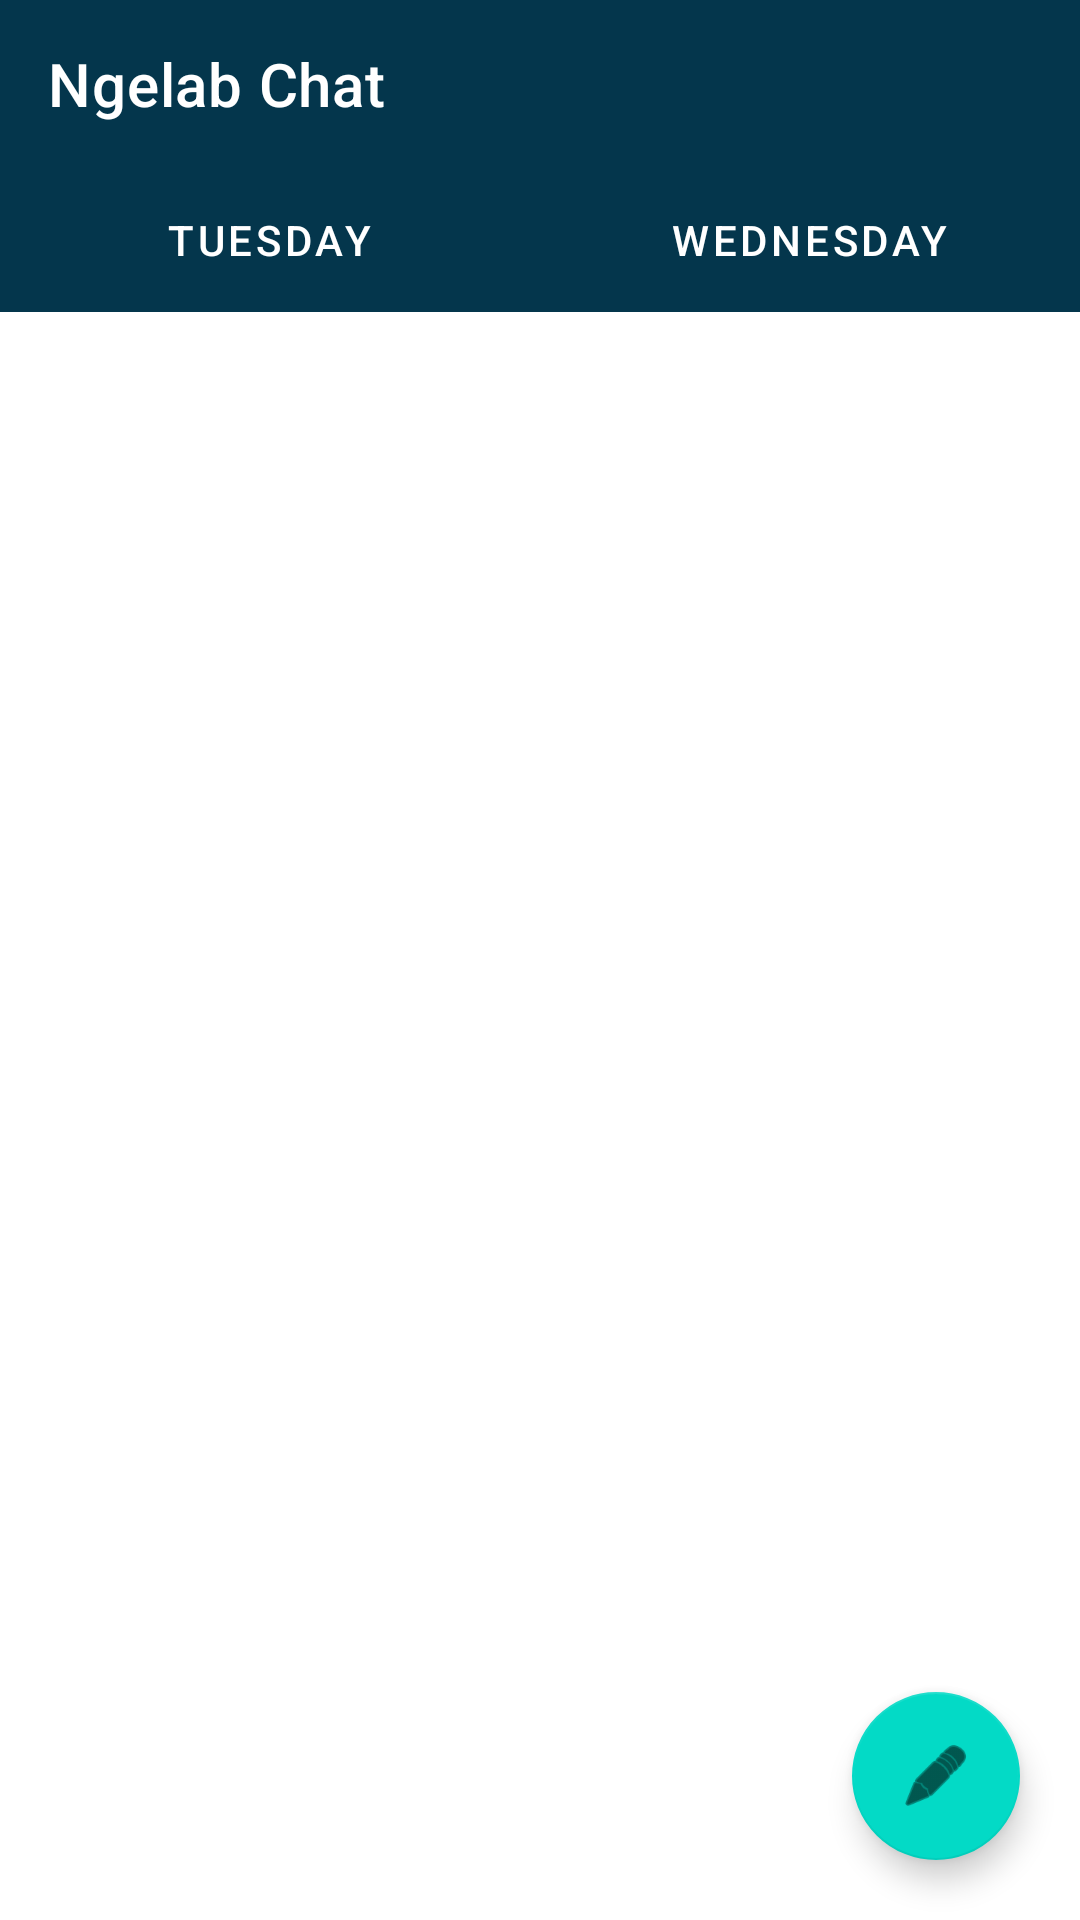

Locate icon controls on the screen. Image size 1080*1920, boxes as (x1, y1, x2, y2).
edit: (852, 1692, 1020, 1860)
